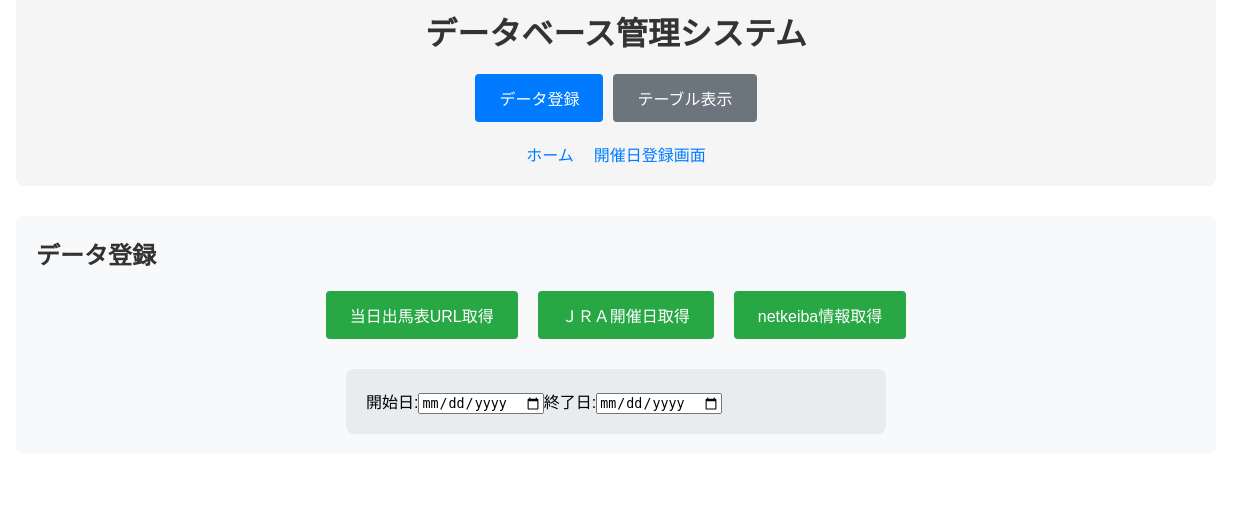
table scrolling › search sends a full-table query and displays API results
This screenshot has width=1233, height=521.
Click the button "テーブル表示": (685, 98) [614, 74, 756, 122]
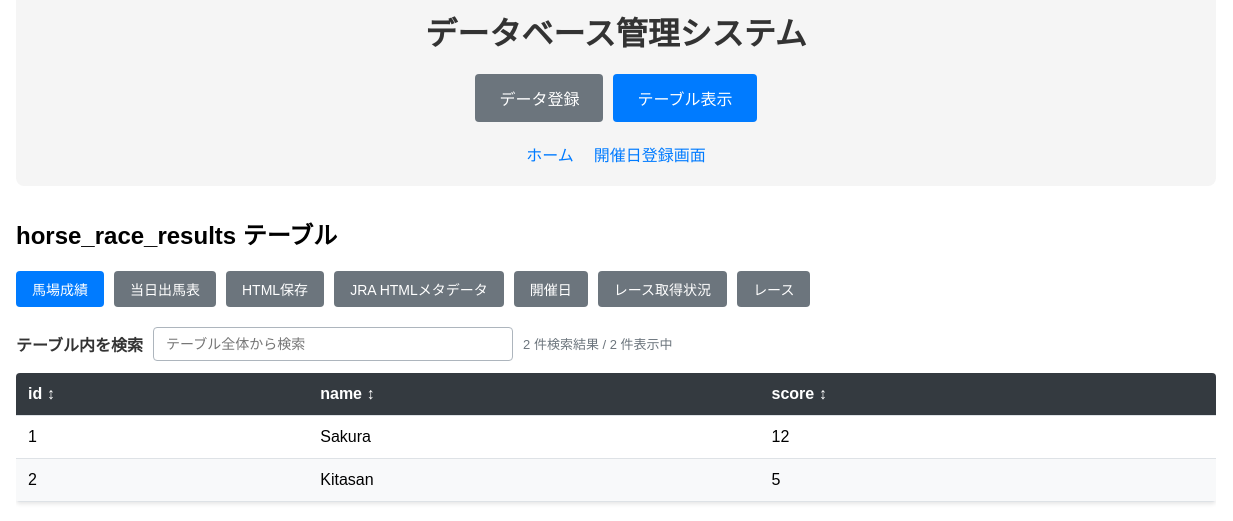
In the search field labelled "テーブル内を検索": (333, 344) [153, 327, 513, 361], type "5"
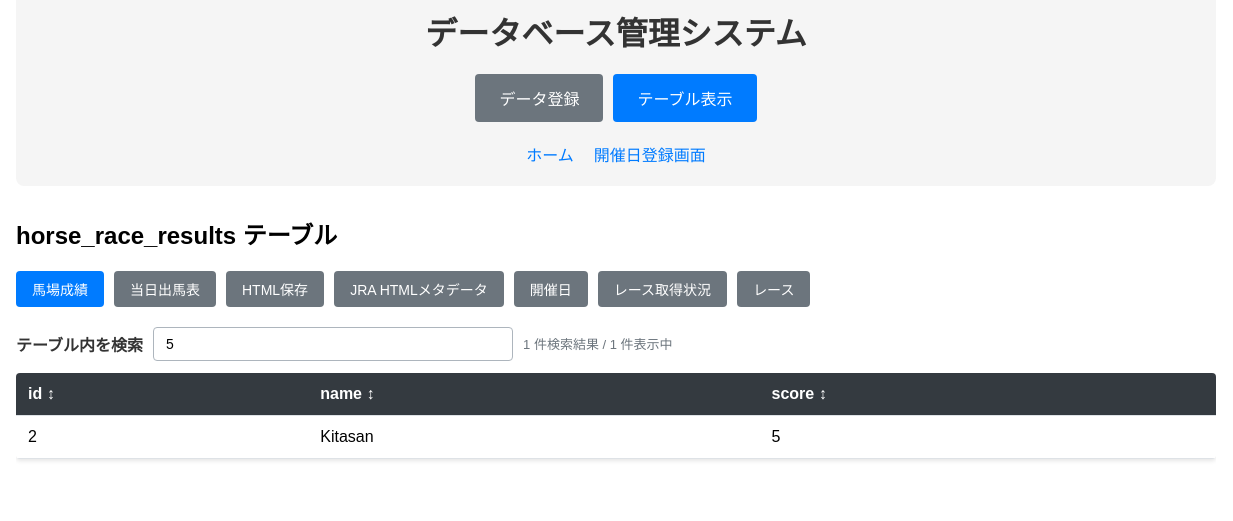
Result: the text "Kitasan" is shown at [308, 415, 760, 458]
Result: the text "Sakura" is gone
Replace the text in the search field labelled "テーブル内を検索" with "no-match": (333, 344) [153, 327, 513, 361]
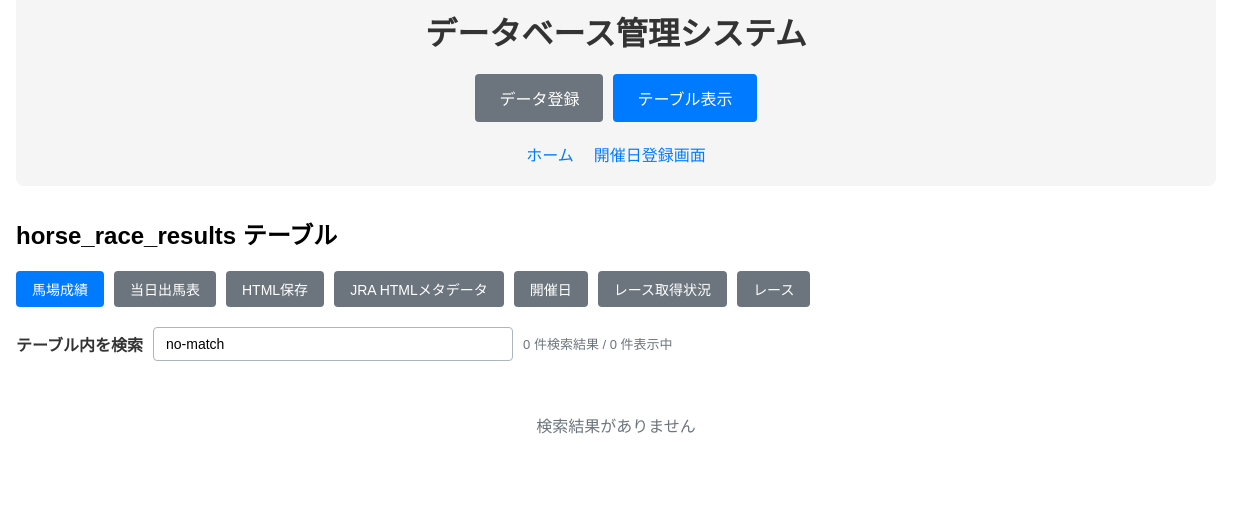
Result: the text "検索結果がありません" is shown at [536, 418, 696, 435]
